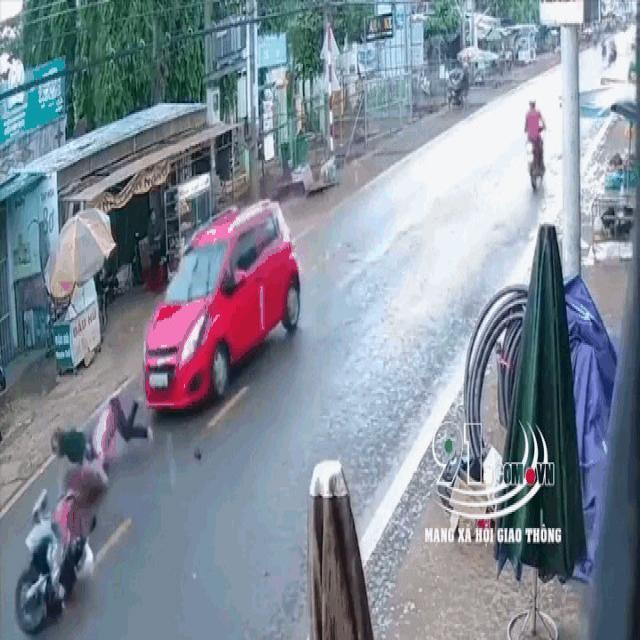multiple_accident: (0, 190, 303, 640)
